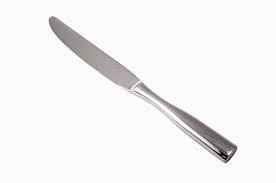Knife: (48, 15, 237, 163)
